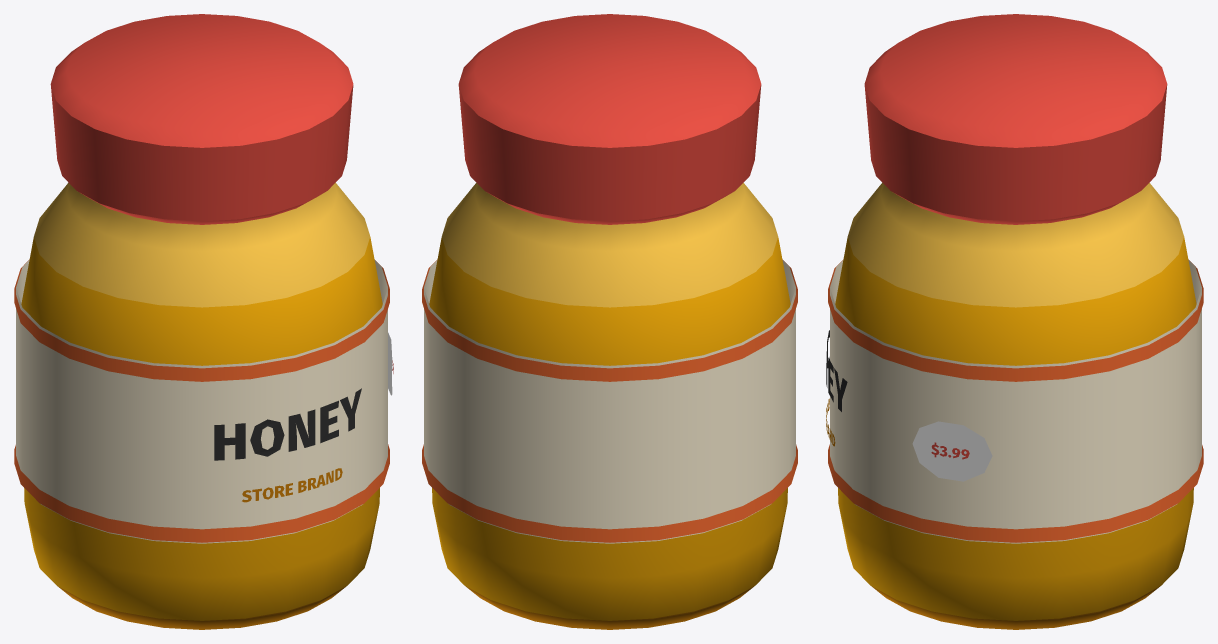
Rendered from honey_jar.fbx.
3 views of the same model, side by side, from view 1: azimuth 30°, elevation 25°; view 2: azimuth 150°, elevation 25°; view 3: azimuth 270°, elevation 25° (orthographic).
Parts seen in each view (by area): view 1: Jar, Label, Lid; view 2: Jar, Label, Lid; view 3: Jar, Label, Lid.
Boxes of the visible parts, left/top/right/bottom form: Jar: left=21, top=182, right=382, bottom=629; Label: left=14, top=259, right=393, bottom=543; Lid: left=50, top=14, right=353, bottom=224; Jar: left=429, top=183, right=790, bottom=629; Label: left=422, top=259, right=797, bottom=543; Lid: left=458, top=14, right=761, bottom=224; Jar: left=835, top=182, right=1196, bottom=629; Label: left=826, top=259, right=1203, bottom=543; Lid: left=864, top=14, right=1167, bottom=224.
Bounding box in the file's own units: 0.0806 × 0.118 × 0.0808.
1 material, 1 textured.
